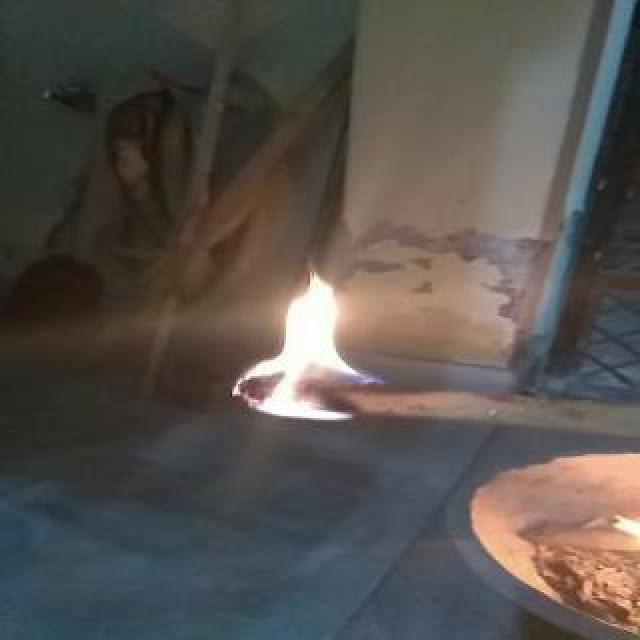Fire: (210, 262, 412, 422)
